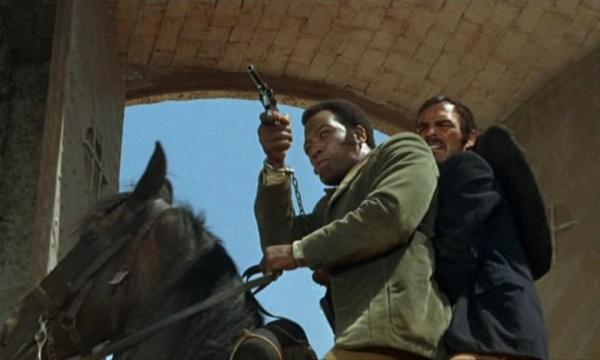Gun: (244, 63, 279, 126)
